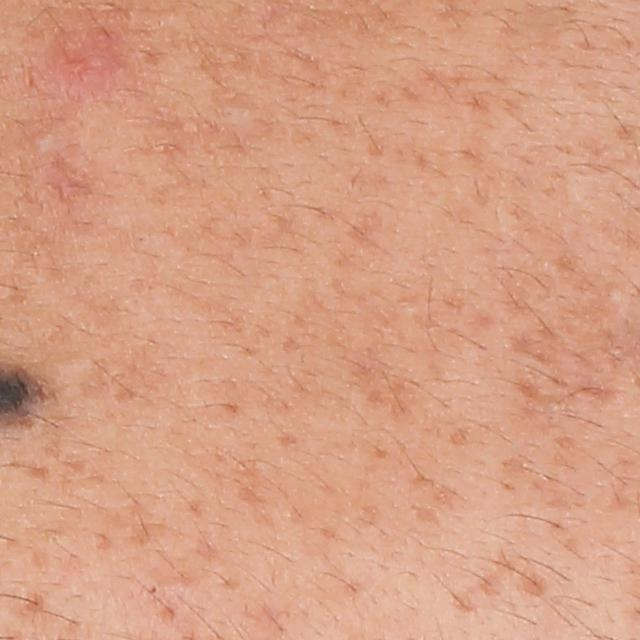comedo: (30, 127, 56, 153)
